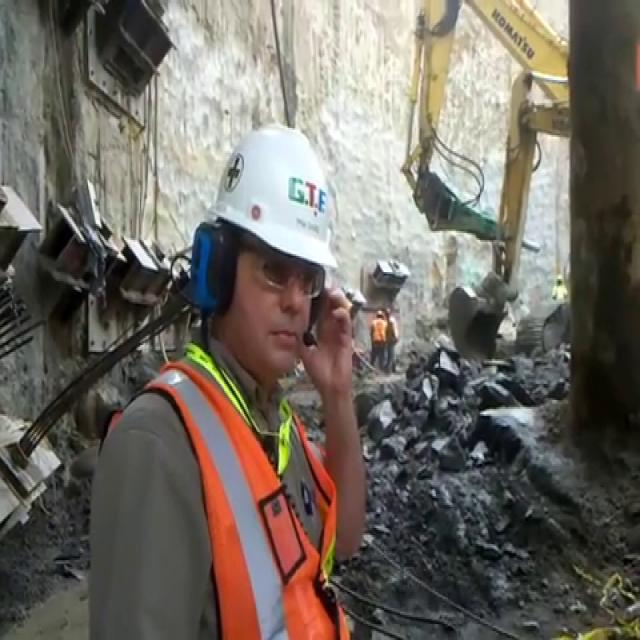earmuff: (186, 218, 239, 319)
glasses: (238, 237, 327, 306)
helmet: (204, 119, 343, 277)
